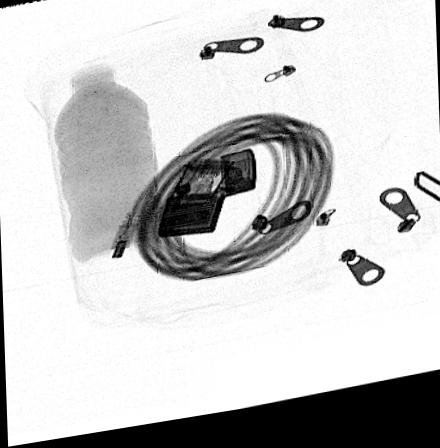Lighter: (157, 156, 256, 244)
